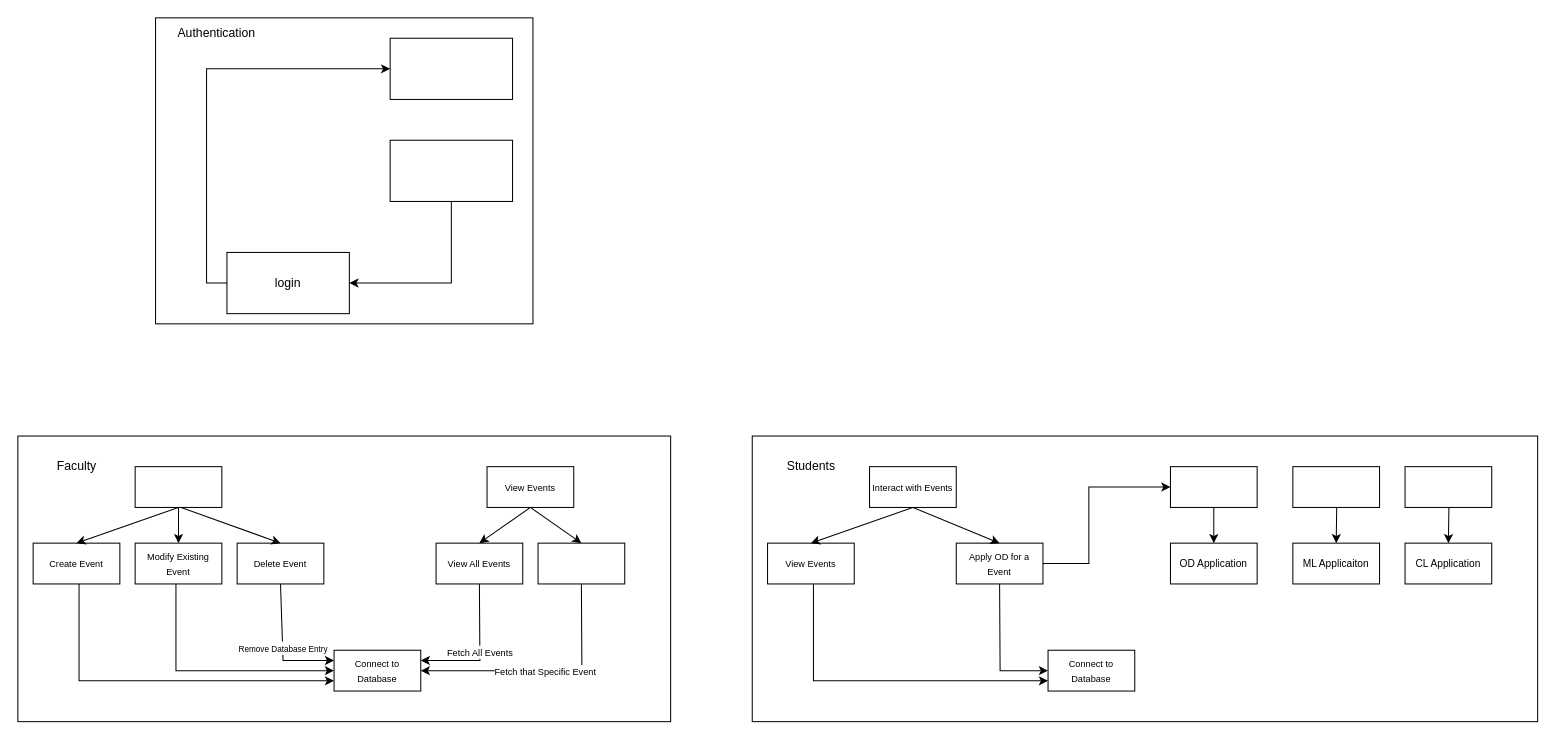
Image size: 1556x740. Some labels were removed from this diagram. Each missing label, with the box of its shape:
Authentication Database: (389, 37, 513, 99)
Casual Leave: (1404, 466, 1492, 507)
Handle Event: (134, 466, 222, 507)
Medical Leave: (1292, 466, 1380, 507)
On Duty Leave: (1169, 466, 1257, 507)
Student: (389, 139, 513, 201)
View Individual Event: (537, 542, 625, 584)
